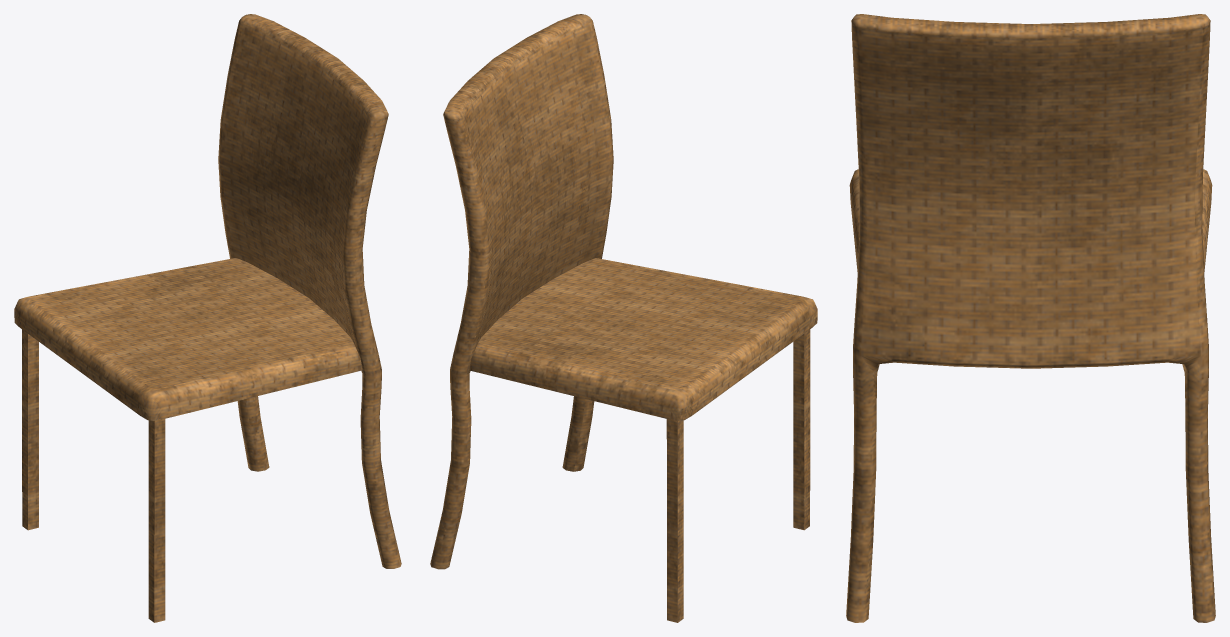
Rendered from MB_Cafe_Chair_01.fbx.
The picture shows the model from 3 angles, left to right: view 1: azimuth 30°, elevation 25°; view 2: azimuth 150°, elevation 25°; view 3: azimuth 270°, elevation 25°; orthographic projection. The views are drawn at different scales.
Parts seen in each view (by area): view 1: MB_Cafe_Chair_01_LOD0; view 2: MB_Cafe_Chair_01_LOD0; view 3: MB_Cafe_Chair_01_LOD0.
Boxes of the visible parts, x1,y1,x2,y2 form: MB_Cafe_Chair_01_LOD0: (14, 14, 401, 622); MB_Cafe_Chair_01_LOD0: (430, 14, 817, 622); MB_Cafe_Chair_01_LOD0: (846, 14, 1215, 622).
Size of what is drawn, in the model's own units: 57.71 by 96.58 by 54.48.
